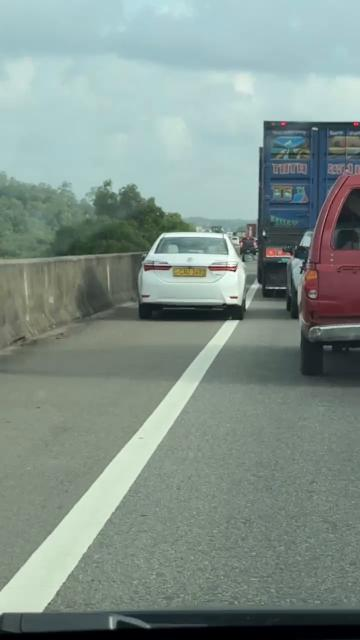illegal overtaking: (150, 223, 252, 318)
number plate: (165, 258, 211, 280)
